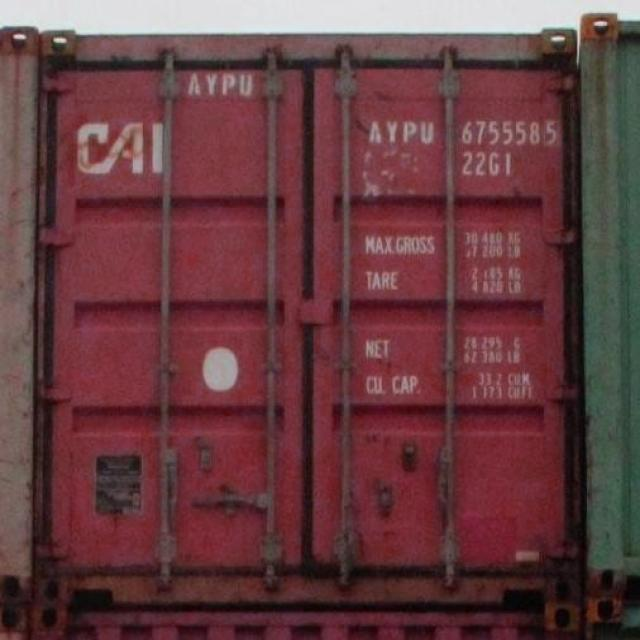ISO: (462, 153, 518, 179)
container_number: (375, 120, 551, 148)
